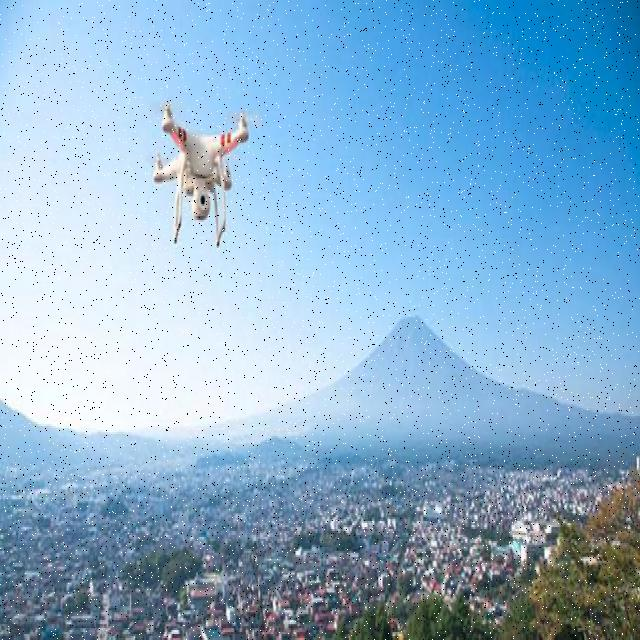UAV: (152, 103, 251, 252)
